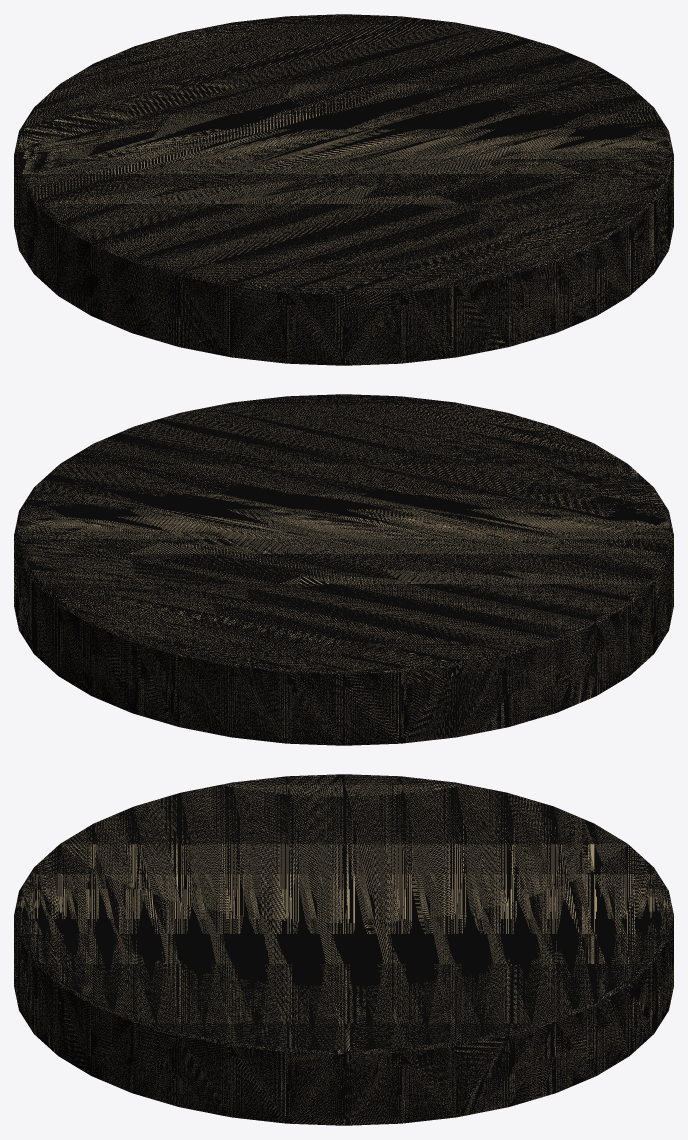
File: original-9.obj
The picture shows the model from 3 angles, top to bottom: view 1: azimuth 30°, elevation 25°; view 2: azimuth 150°, elevation 25°; view 3: azimuth 270°, elevation 25°; orthographic projection.
Visible parts, largest first — view 1: mesh8/mesh8-geometry#mesh8-geometry; view 2: mesh8/mesh8-geometry#mesh8-geometry; view 3: mesh8/mesh8-geometry#mesh8-geometry.
Part boxes in pixels (left/top/right/bottom): mesh8/mesh8-geometry#mesh8-geometry: left=14, top=14, right=673, bottom=365; mesh8/mesh8-geometry#mesh8-geometry: left=14, top=394, right=673, bottom=745; mesh8/mesh8-geometry#mesh8-geometry: left=14, top=774, right=673, bottom=1125.
Bounding box in the file's own units: 0.1992 × 0.0247 × 0.1992.
